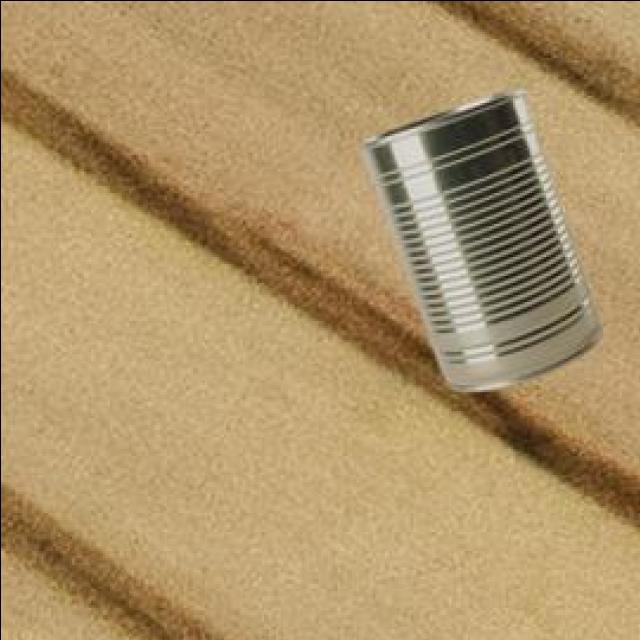logam: (364, 91, 603, 395)
